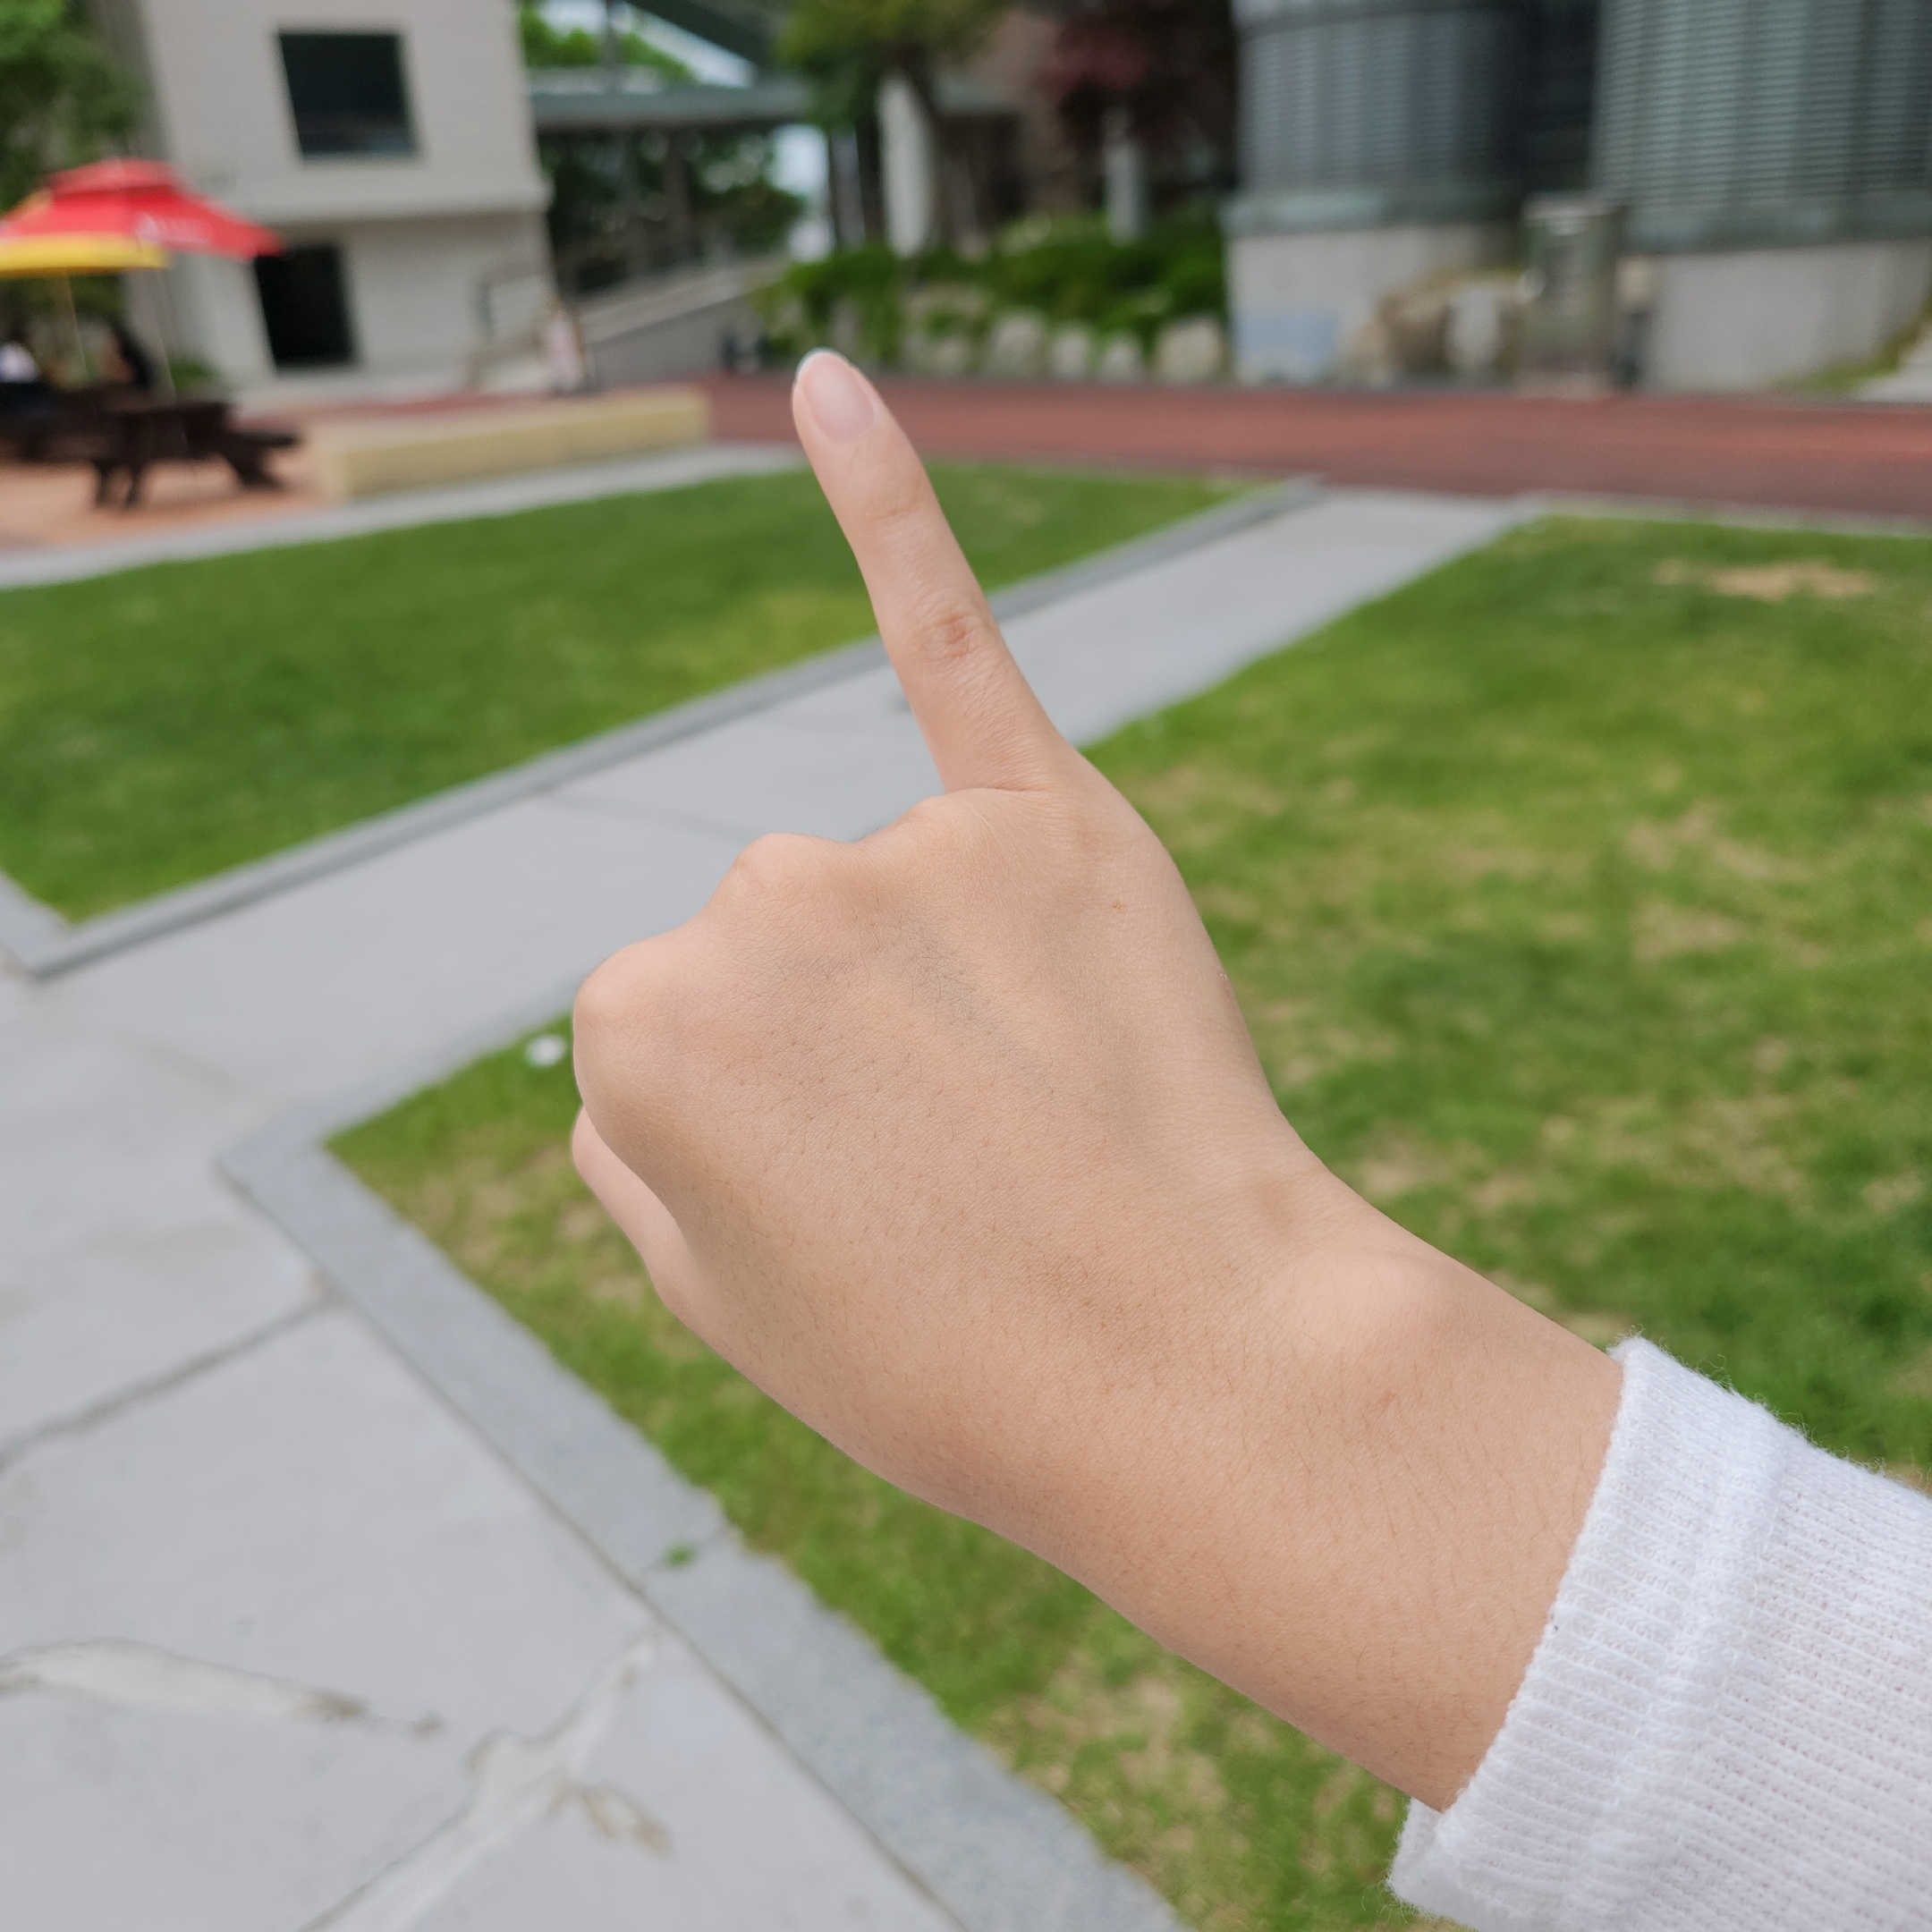fine: (570, 351, 1322, 1531)
